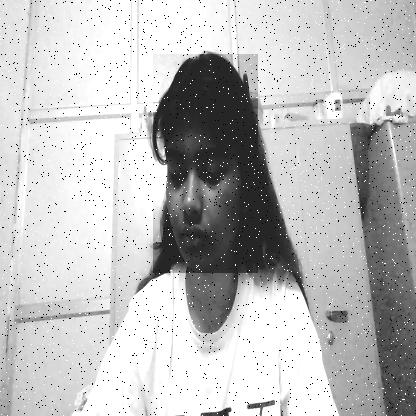Distracted: (153, 54, 258, 273)
